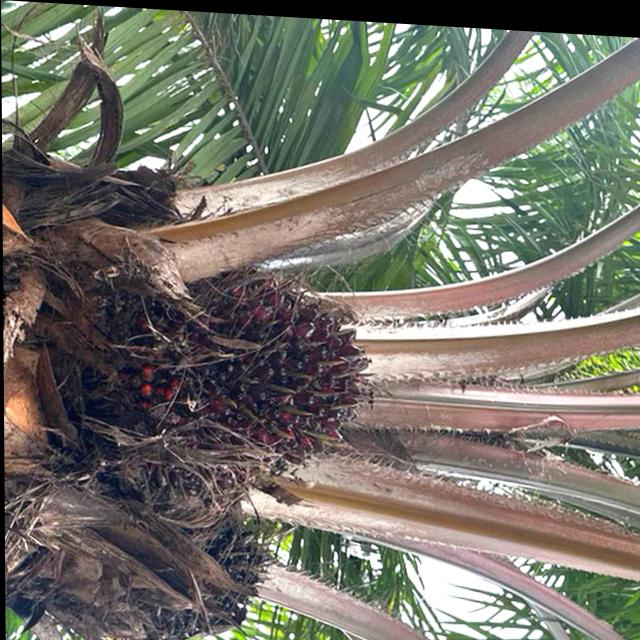ripe: (110, 240, 386, 494)
